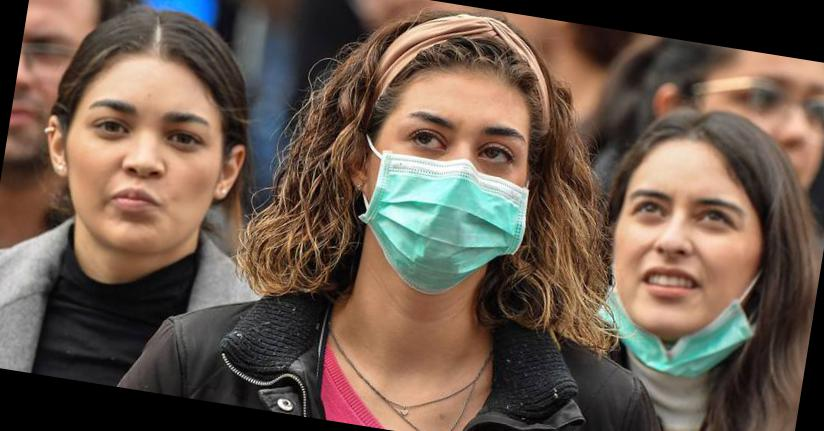mask_weared_incorrect: (596, 177, 770, 385)
with_mask: (370, 101, 539, 299)
without_mask: (63, 87, 227, 262), (735, 66, 824, 190), (5, 22, 80, 163)
